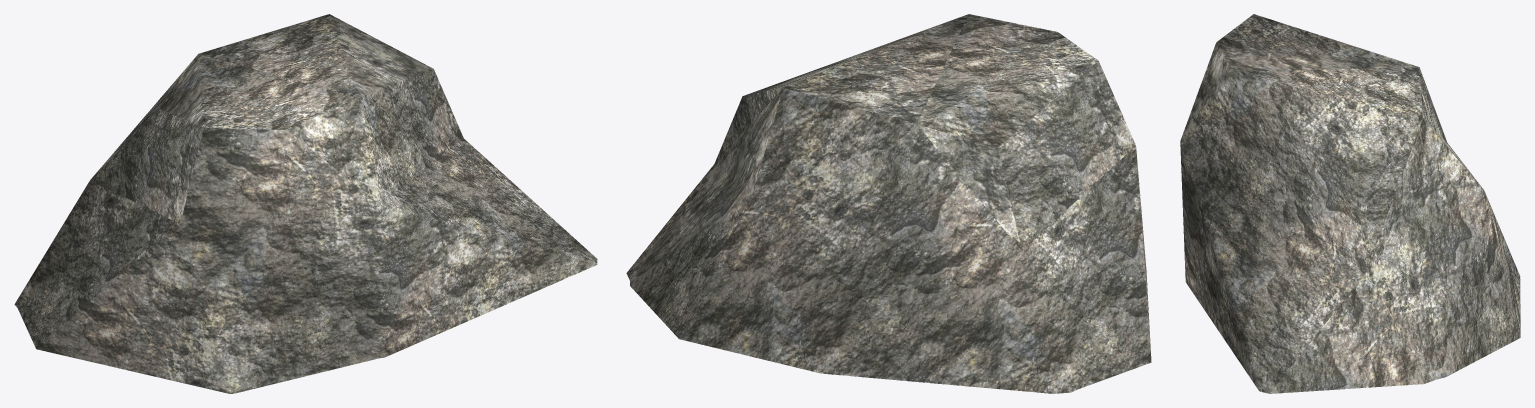
Rendered from rock.fbx.
The picture shows the model from 3 angles, left to right: view 1: azimuth 30°, elevation 25°; view 2: azimuth 150°, elevation 25°; view 3: azimuth 270°, elevation 25°; orthographic projection. The views are drawn at different scales.
Visible parts, largest first — view 1: Model; view 2: Model; view 3: Model.
Part boxes in pixels (box(x1,y1,x2,y2)): Model: box(14, 14, 597, 393); Model: box(626, 14, 1151, 393); Model: box(1180, 14, 1520, 393).
Bounding box in the file's own units: 394 × 176 × 258.
